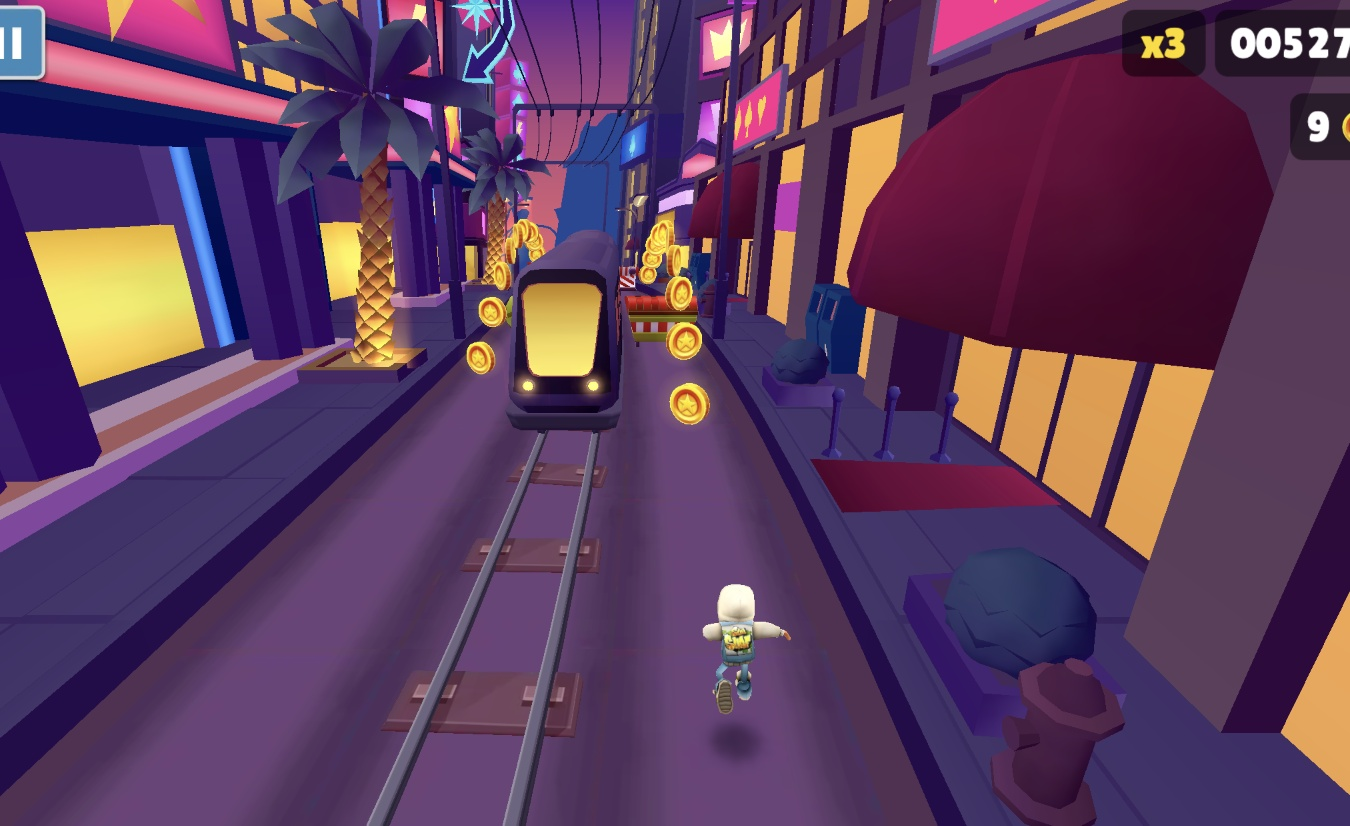ground_barrier: (623, 301, 697, 346), (618, 265, 640, 292)
train: (500, 227, 629, 434)
